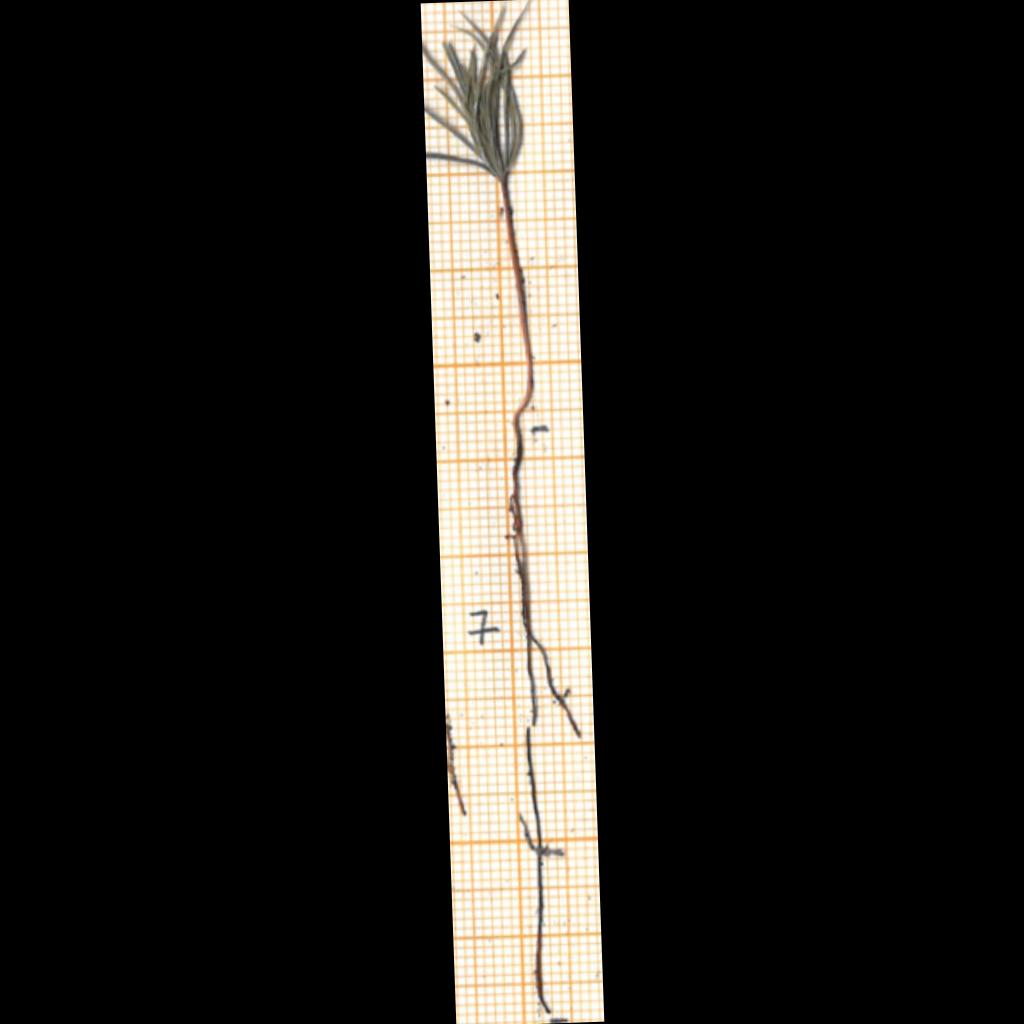flowerPinus: (422, 4, 527, 183)
rootPinus: (511, 426, 580, 738)
stemPinus: (501, 179, 533, 428)
